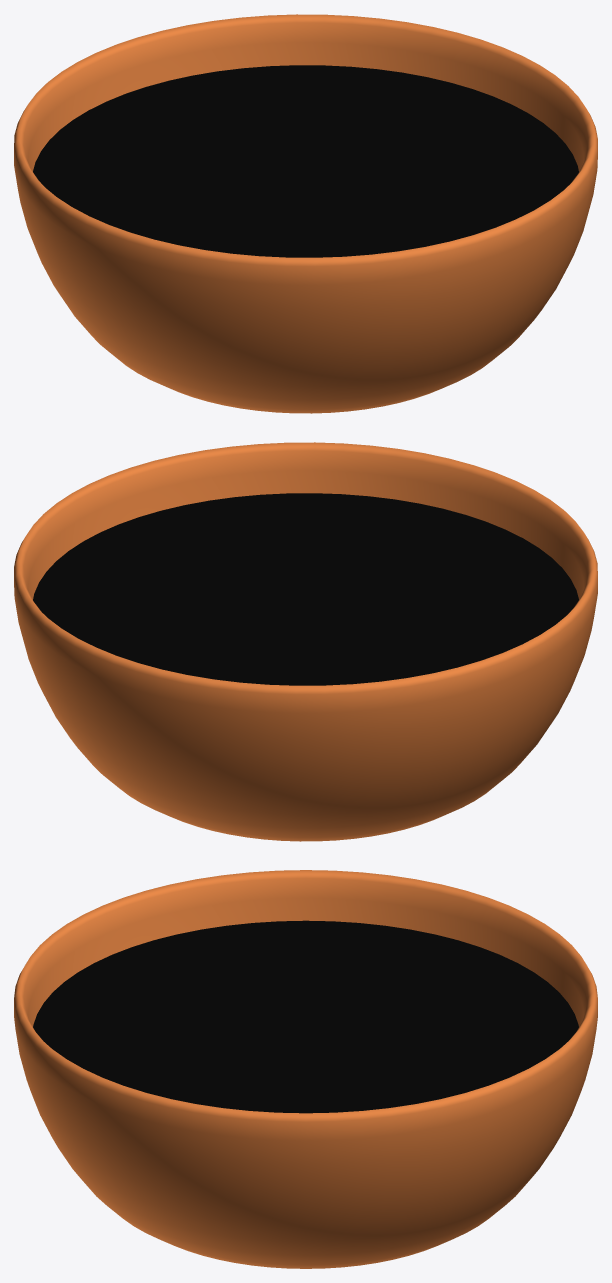
Rendered from BlackSlip.fbx.
3 views of the same model, one above another, from view 1: azimuth 30°, elevation 25°; view 2: azimuth 150°, elevation 25°; view 3: azimuth 270°, elevation 25° (orthographic).
Visible parts, largest first — view 1: Bowl, Water; view 2: Bowl, Water; view 3: Bowl, Water.
Boxes of the visible parts, x1,y1,x2,y2 form: Bowl: [14, 14, 597, 413]; Water: [33, 65, 578, 257]; Bowl: [14, 442, 597, 841]; Water: [33, 493, 578, 685]; Bowl: [14, 870, 597, 1268]; Water: [33, 920, 578, 1113].
Bounding box in the file's own units: 181 × 71.75 × 181.
